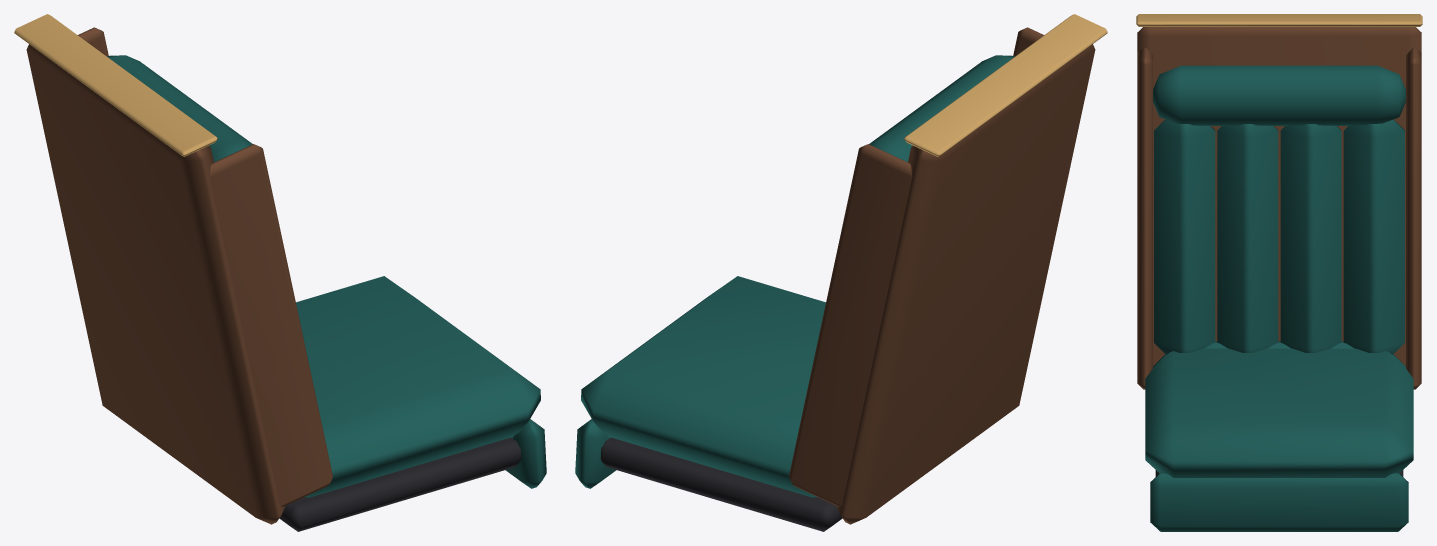
The model's file is seat_standard.glb.
3 views of the same model, side by side, from view 1: azimuth 30°, elevation 25°; view 2: azimuth 150°, elevation 25°; view 3: azimuth 270°, elevation 25° (orthographic). The views are drawn at different scales.
Visible parts, largest first — view 1: Mesh_Shell, Mesh_Cushion, Mesh_WingR, Mesh_ShellTrim, Mesh_Pan, Mesh_Headrest, Mesh_Apron; view 2: Mesh_Shell, Mesh_Cushion, Mesh_WingL, Mesh_ShellTrim, Mesh_Pan, Mesh_Headrest, Mesh_Apron; view 3: Mesh_Cushion, Mesh_Headrest, Mesh_Shell, Mesh_Channel0, Mesh_Channel3, Mesh_Apron, Mesh_Channel1, Mesh_Channel2, Mesh_WingL, Mesh_WingR, Mesh_ShellTrim, Mesh_Lumbar.
Part boxes in pixels (left/top/right/bottom): Mesh_Shell: left=26, top=44, right=285, bottom=524; Mesh_Cushion: left=296, top=276, right=540, bottom=497; Mesh_WingR: left=209, top=144, right=332, bottom=506; Mesh_ShellTrim: left=14, top=14, right=217, bottom=156; Mesh_Pan: left=279, top=437, right=521, bottom=531; Mesh_Headrest: left=107, top=55, right=252, bottom=162; Mesh_Apron: left=505, top=419, right=546, bottom=488; Mesh_Shell: left=836, top=44, right=1095, bottom=524; Mesh_Cushion: left=581, top=276, right=825, bottom=497; Mesh_WingL: left=789, top=144, right=912, bottom=506; Mesh_ShellTrim: left=904, top=14, right=1107, bottom=156; Mesh_Pan: left=600, top=437, right=842, bottom=531; Mesh_Headrest: left=869, top=55, right=1014, bottom=162; Mesh_Apron: left=575, top=419, right=616, bottom=488; Mesh_Cushion: left=1145, top=348, right=1413, bottom=477; Mesh_Headrest: left=1153, top=65, right=1405, bottom=125; Mesh_Shell: left=1137, top=27, right=1421, bottom=365; Mesh_Channel0: left=1343, top=119, right=1404, bottom=354; Mesh_Channel3: left=1154, top=119, right=1215, bottom=354; Mesh_Apron: left=1150, top=472, right=1408, bottom=531; Mesh_Channel1: left=1280, top=124, right=1341, bottom=352; Mesh_Channel2: left=1217, top=124, right=1278, bottom=352; Mesh_WingL: left=1406, top=47, right=1421, bottom=389; Mesh_WingR: left=1137, top=47, right=1152, bottom=389; Mesh_ShellTrim: left=1136, top=14, right=1422, bottom=26; Mesh_Lumbar: left=1153, top=341, right=1405, bottom=367.
Size of the model in its own units: 0.7175 by 0.7975 by 0.555.
